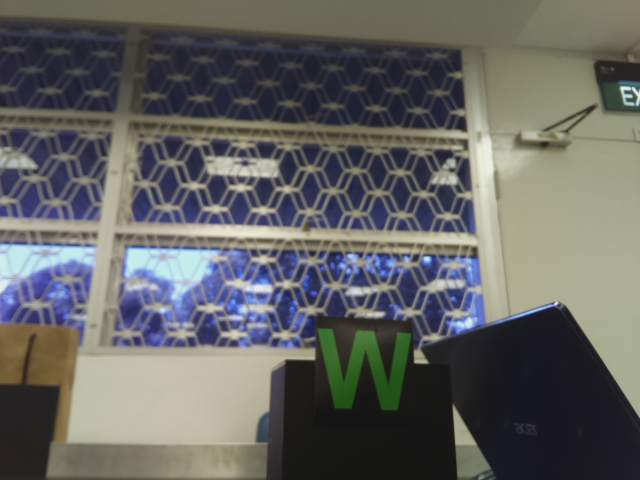w: (318, 325, 413, 417)
